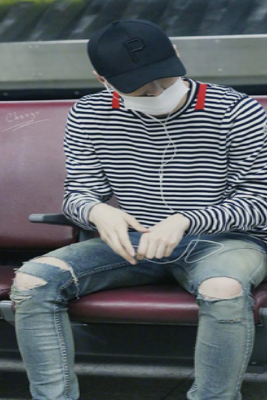mask_weared_incorrect: (112, 77, 192, 117)
